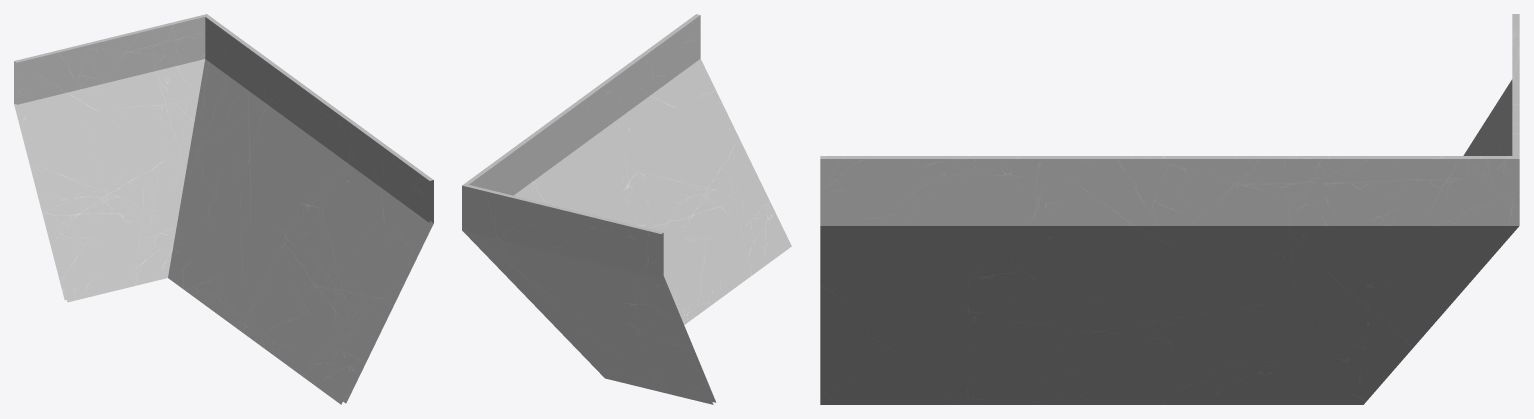
Rendered from TightenerStation_Cube08.glb.
The picture shows the model from 3 angles, left to right: view 1: azimuth 30°, elevation 25°; view 2: azimuth 150°, elevation 25°; view 3: azimuth 270°, elevation 25°; orthographic projection. The views are drawn at different scales.
Visible parts, largest first — view 1: color-2.008; view 2: color-2.008; view 3: color-2.008.
Part boxes in pixels (x1=…): color-2.008: x1=14, y1=14, x2=433, y2=404; color-2.008: x1=462, y1=14, x2=791, y2=404; color-2.008: x1=820, y1=14, x2=1519, y2=404.
Bounding box in the file's own units: 0.1397 × 0.14 × 0.2845.
Materials: 1 (1 with a texture image).
